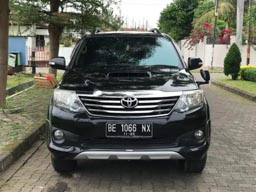plat: (107, 123, 153, 132)
